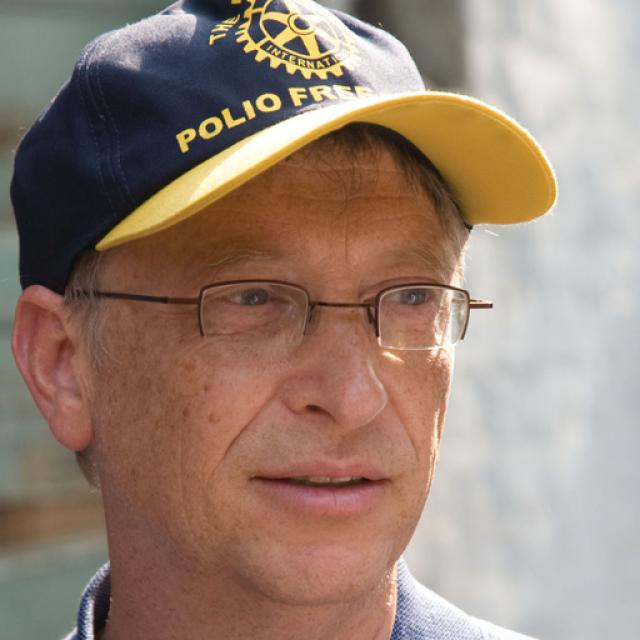Pigmentation: (115, 313, 292, 437)
